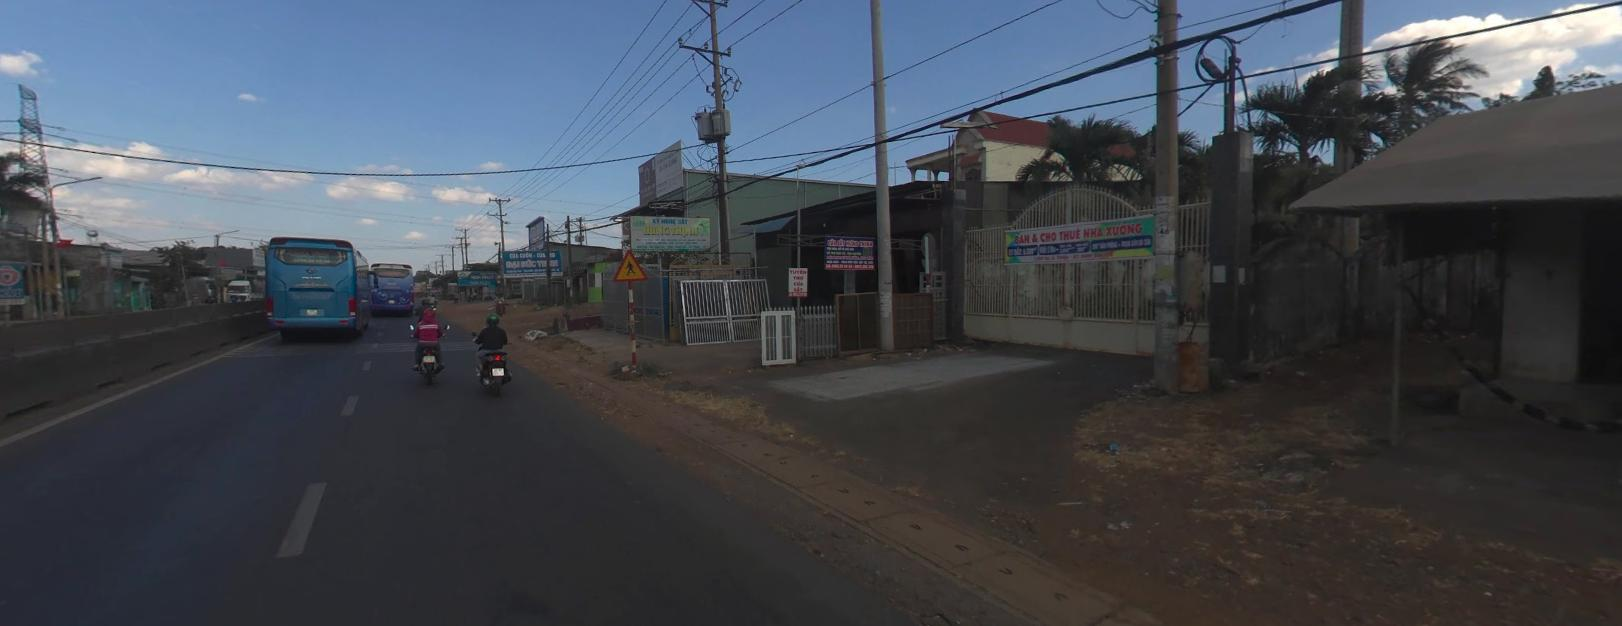Nguy hiem: (612, 249, 647, 280)
